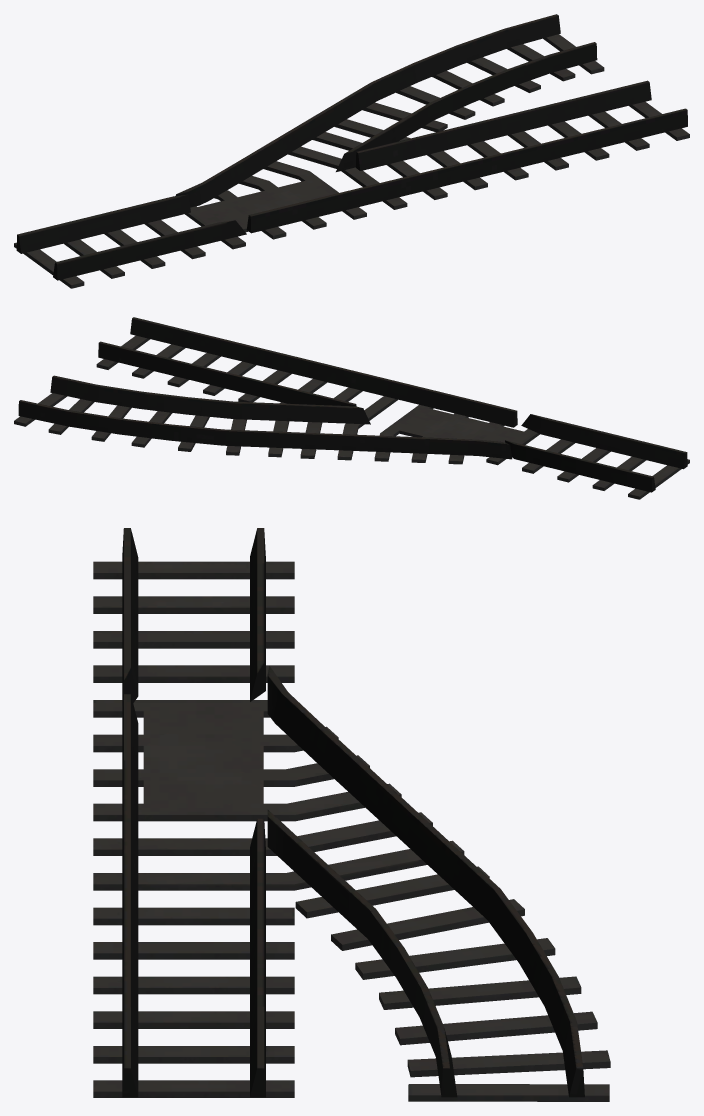
Rendered from SM_Railway_switch_2.fbx.
3 views of the same model, one above another, from view 1: azimuth 30°, elevation 25°; view 2: azimuth 150°, elevation 25°; view 3: azimuth 270°, elevation 25° (orthographic). The views are drawn at different scales.
Visible parts, largest first — view 1: SM_Railway_switch_2; view 2: SM_Railway_switch_2; view 3: SM_Railway_switch_2.
Part boxes in pixels (x1=…): SM_Railway_switch_2: x1=14, y1=14, x2=689, y2=288; SM_Railway_switch_2: x1=14, y1=317, x2=689, y2=499; SM_Railway_switch_2: x1=93, y1=528, x2=610, y2=1101.
Size of the model in its own units: 40.05 by 1.22 by 16.2.
1 material, 1 textured.
